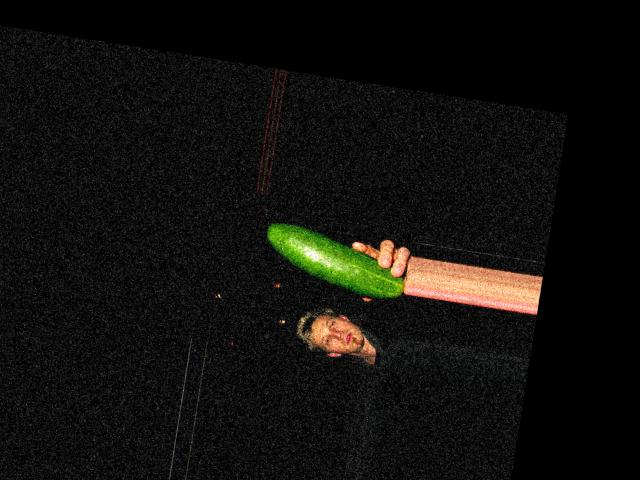cucumber: (260, 220, 409, 300)
